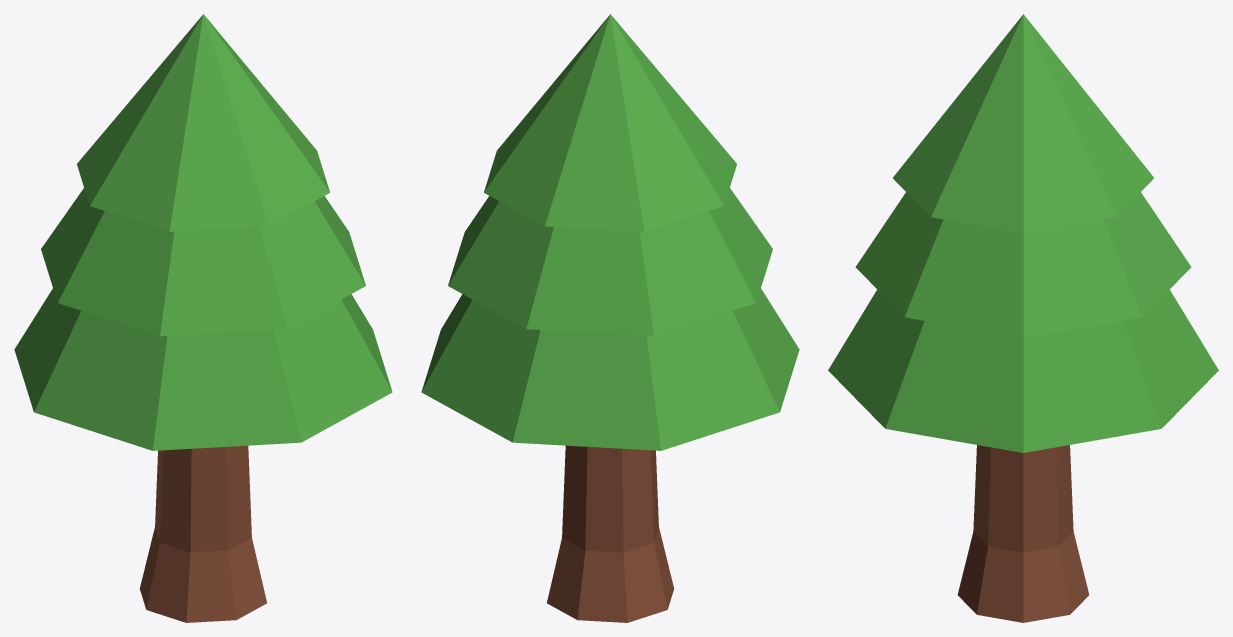
Rendered from tree.fbx.
The picture shows the model from 3 angles, left to right: view 1: azimuth 30°, elevation 25°; view 2: azimuth 150°, elevation 25°; view 3: azimuth 270°, elevation 25°; orthographic projection.
Visible parts, largest first — view 1: Circle.002; view 2: Circle.002; view 3: Circle.002.
Boxes of the visible parts, x1,y1,x2,y2 form: Circle.002: (14, 14, 392, 622); Circle.002: (421, 14, 799, 622); Circle.002: (828, 14, 1218, 622).
Bounding box in the file's own units: 132 × 217 × 132.
